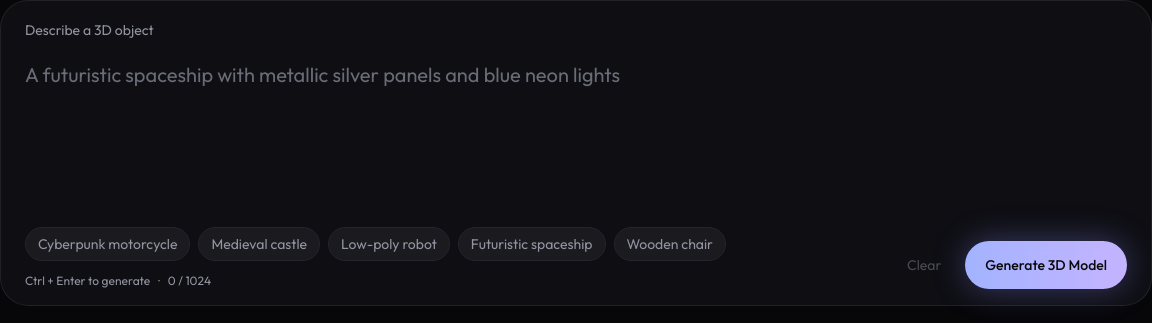
Test: PromptComposer › submits a valid prompt and can clear it
This screenshot has width=1152, height=323.
Type "A wooden chair with visible grain" into the text box labelled "Describe a 3D object". click: [576, 131]
box: x1=17 y1=49 x2=1135 y2=213
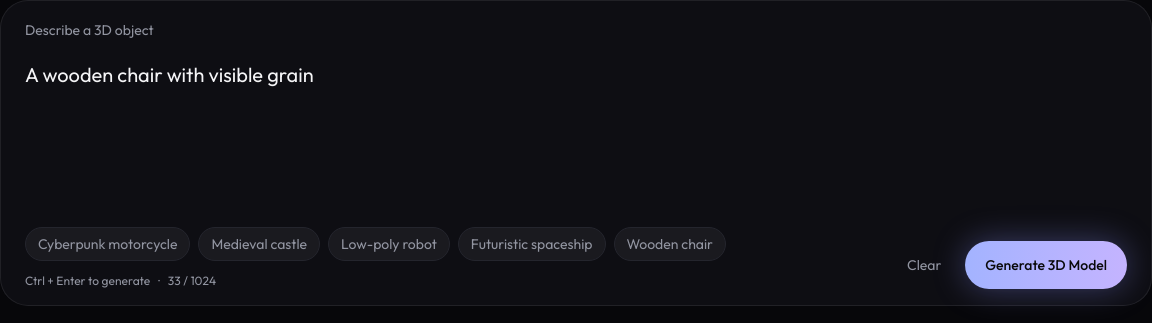
Click the button "Generate 3D Model". click: [1046, 265]
box: x1=965 y1=241 x2=1127 y2=289
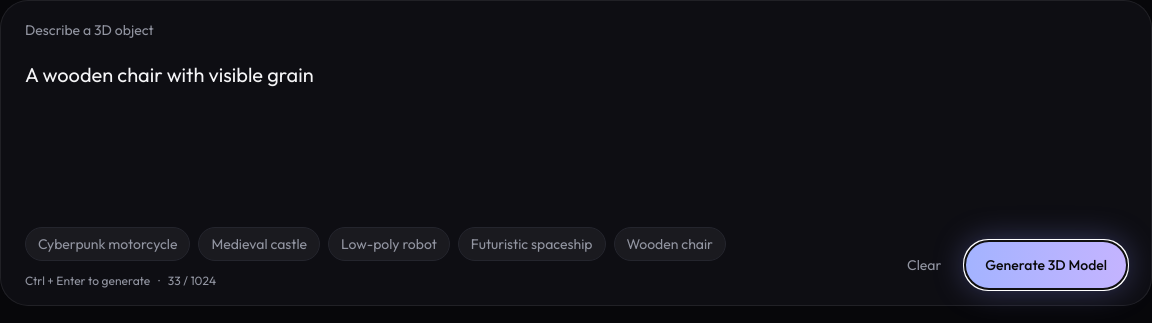
Click the button "Clear". click: [924, 265]
box: x1=891 y1=245 x2=957 y2=285
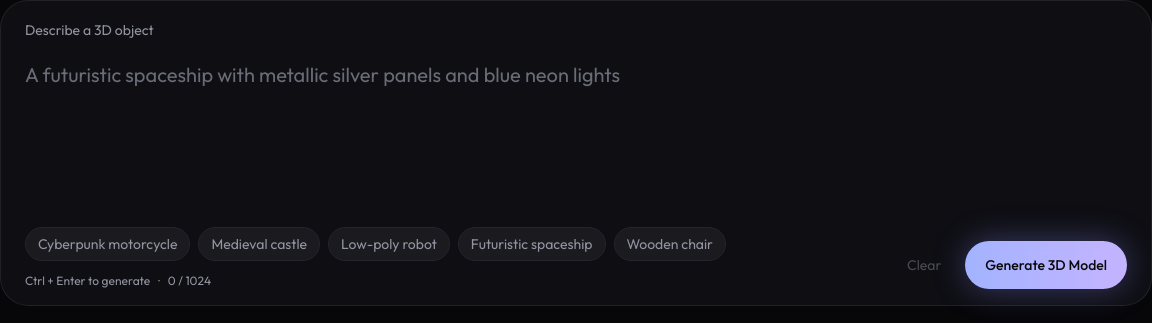
Now the text box labelled "Describe a 3D object" is empty, box x1=17 y1=49 x2=1135 y2=213
